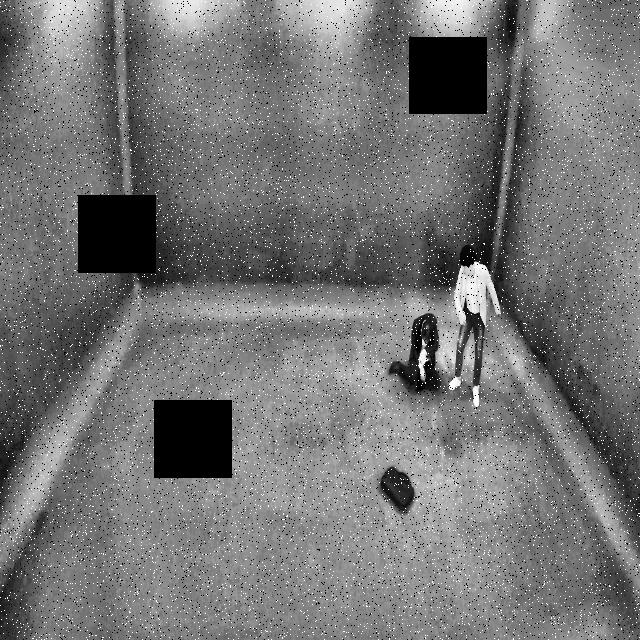assult: (382, 236, 504, 412)
